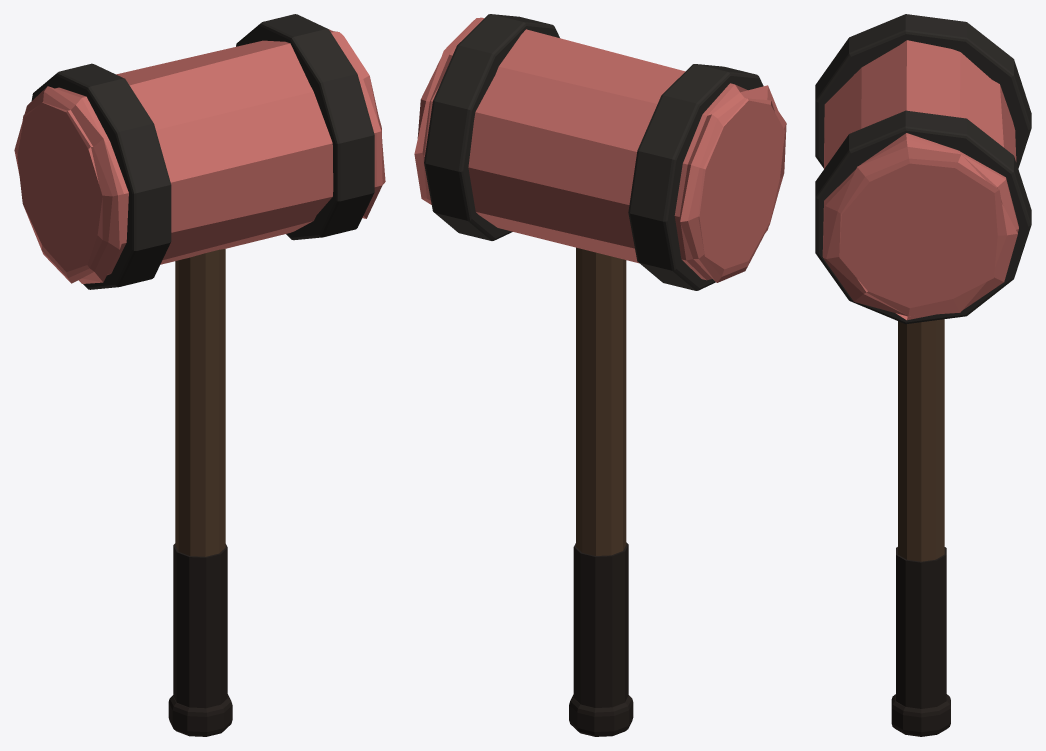
Rendered from hammer_iwadaru.fbx.
The picture shows the model from 3 angles, left to right: view 1: azimuth 30°, elevation 25°; view 2: azimuth 150°, elevation 25°; view 3: azimuth 270°, elevation 25°; orthographic projection. The views are drawn at different scales.
Parts seen in each view (by area): view 1: iwadaru_hammer; view 2: iwadaru_hammer; view 3: iwadaru_hammer.
Boxes of the visible parts, x1=… form: iwadaru_hammer: x1=14, y1=14, x2=385, y2=736; iwadaru_hammer: x1=414, y1=14, x2=786, y2=736; iwadaru_hammer: x1=815, y1=14, x2=1031, y2=736.
Size of the model in its own units: 1.16 by 2.66 by 0.7938.
